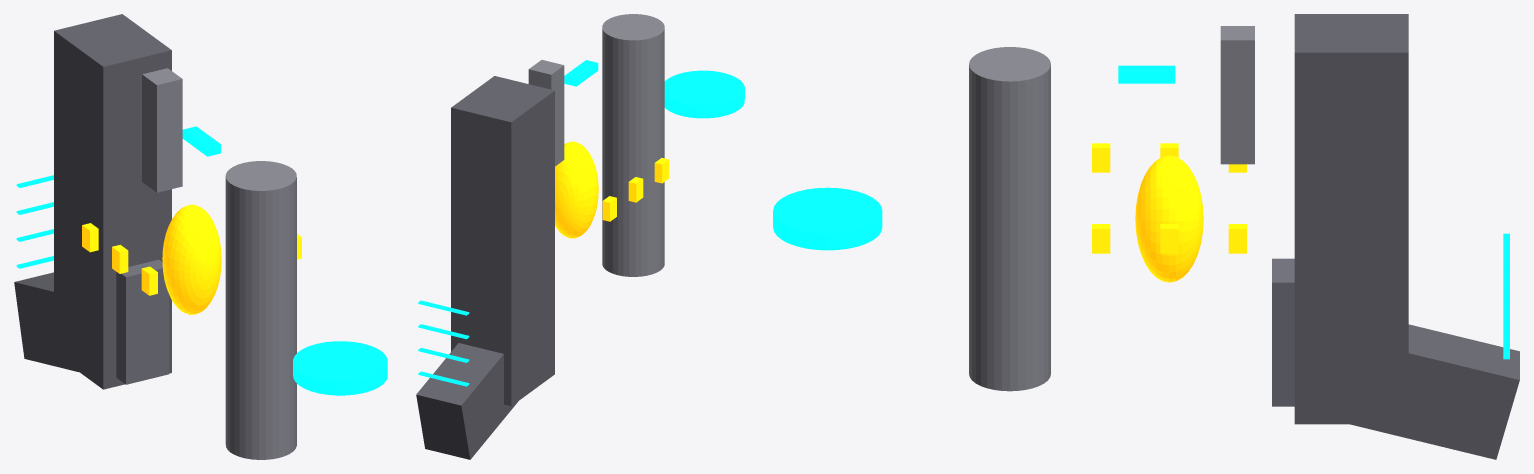
File: pixel_blaster.glb
3 renders of one model, left to right at view 1: azimuth 30°, elevation 25°; view 2: azimuth 150°, elevation 25°; view 3: azimuth 270°, elevation 25°, orthographic. The views are drawn at different scales.
Parts seen in each view (by area): view 1: BlasterBody, Barrel, Magazine, EnergyCore, Sight, BarrelTip, Grip, SightPost, Vent_-1_0, Vent_-1_1, Vent_-1_2; view 2: BlasterBody, Barrel, Grip, EnergyCore, BarrelTip, Sight, SightPost, Vent_-1_1, Vent_-1_2, Vent_-1_0; view 3: BlasterBody, Barrel, Grip, EnergyCore, BarrelTip, Sight, Magazine, SightPost.
Boxes of the visible parts, x1,y1,x2,y2 form: BlasterBody: (54,14,171,389); Barrel: (225,161,296,459); Magazine: (116,259,168,384); EnergyCore: (162,204,221,314); Sight: (142,68,182,192); BarrelTip: (293,341,387,395); Grip: (14,272,78,371); SightPost: (182,126,220,156); Vent_-1_0: (82,223,98,252); Vent_-1_1: (112,244,128,273); Vent_-1_2: (141,266,157,295); BlasterBody: (451,76,554,406); Barrel: (602,14,664,276); Grip: (416,343,518,459); EnergyCore: (555,141,598,238); BarrelTip: (664,70,744,118); Sight: (528,60,564,166); SightPost: (564,60,598,86); Vent_-1_1: (628,177,643,202); Vent_-1_2: (654,158,669,183); Vent_-1_0: (602,196,616,221); BlasterBody: (1294,14,1408,424); Barrel: (969,47,1050,391); Grip: (1350,324,1519,459); EnergyCore: (1135,155,1203,282); BarrelTip: (773,187,882,250); Sight: (1220,26,1254,164); Magazine: (1272,258,1294,406); SightPost: (1118,65,1175,83).
Size of the model in its own units: 0.089 by 0.1997 by 0.3278.
